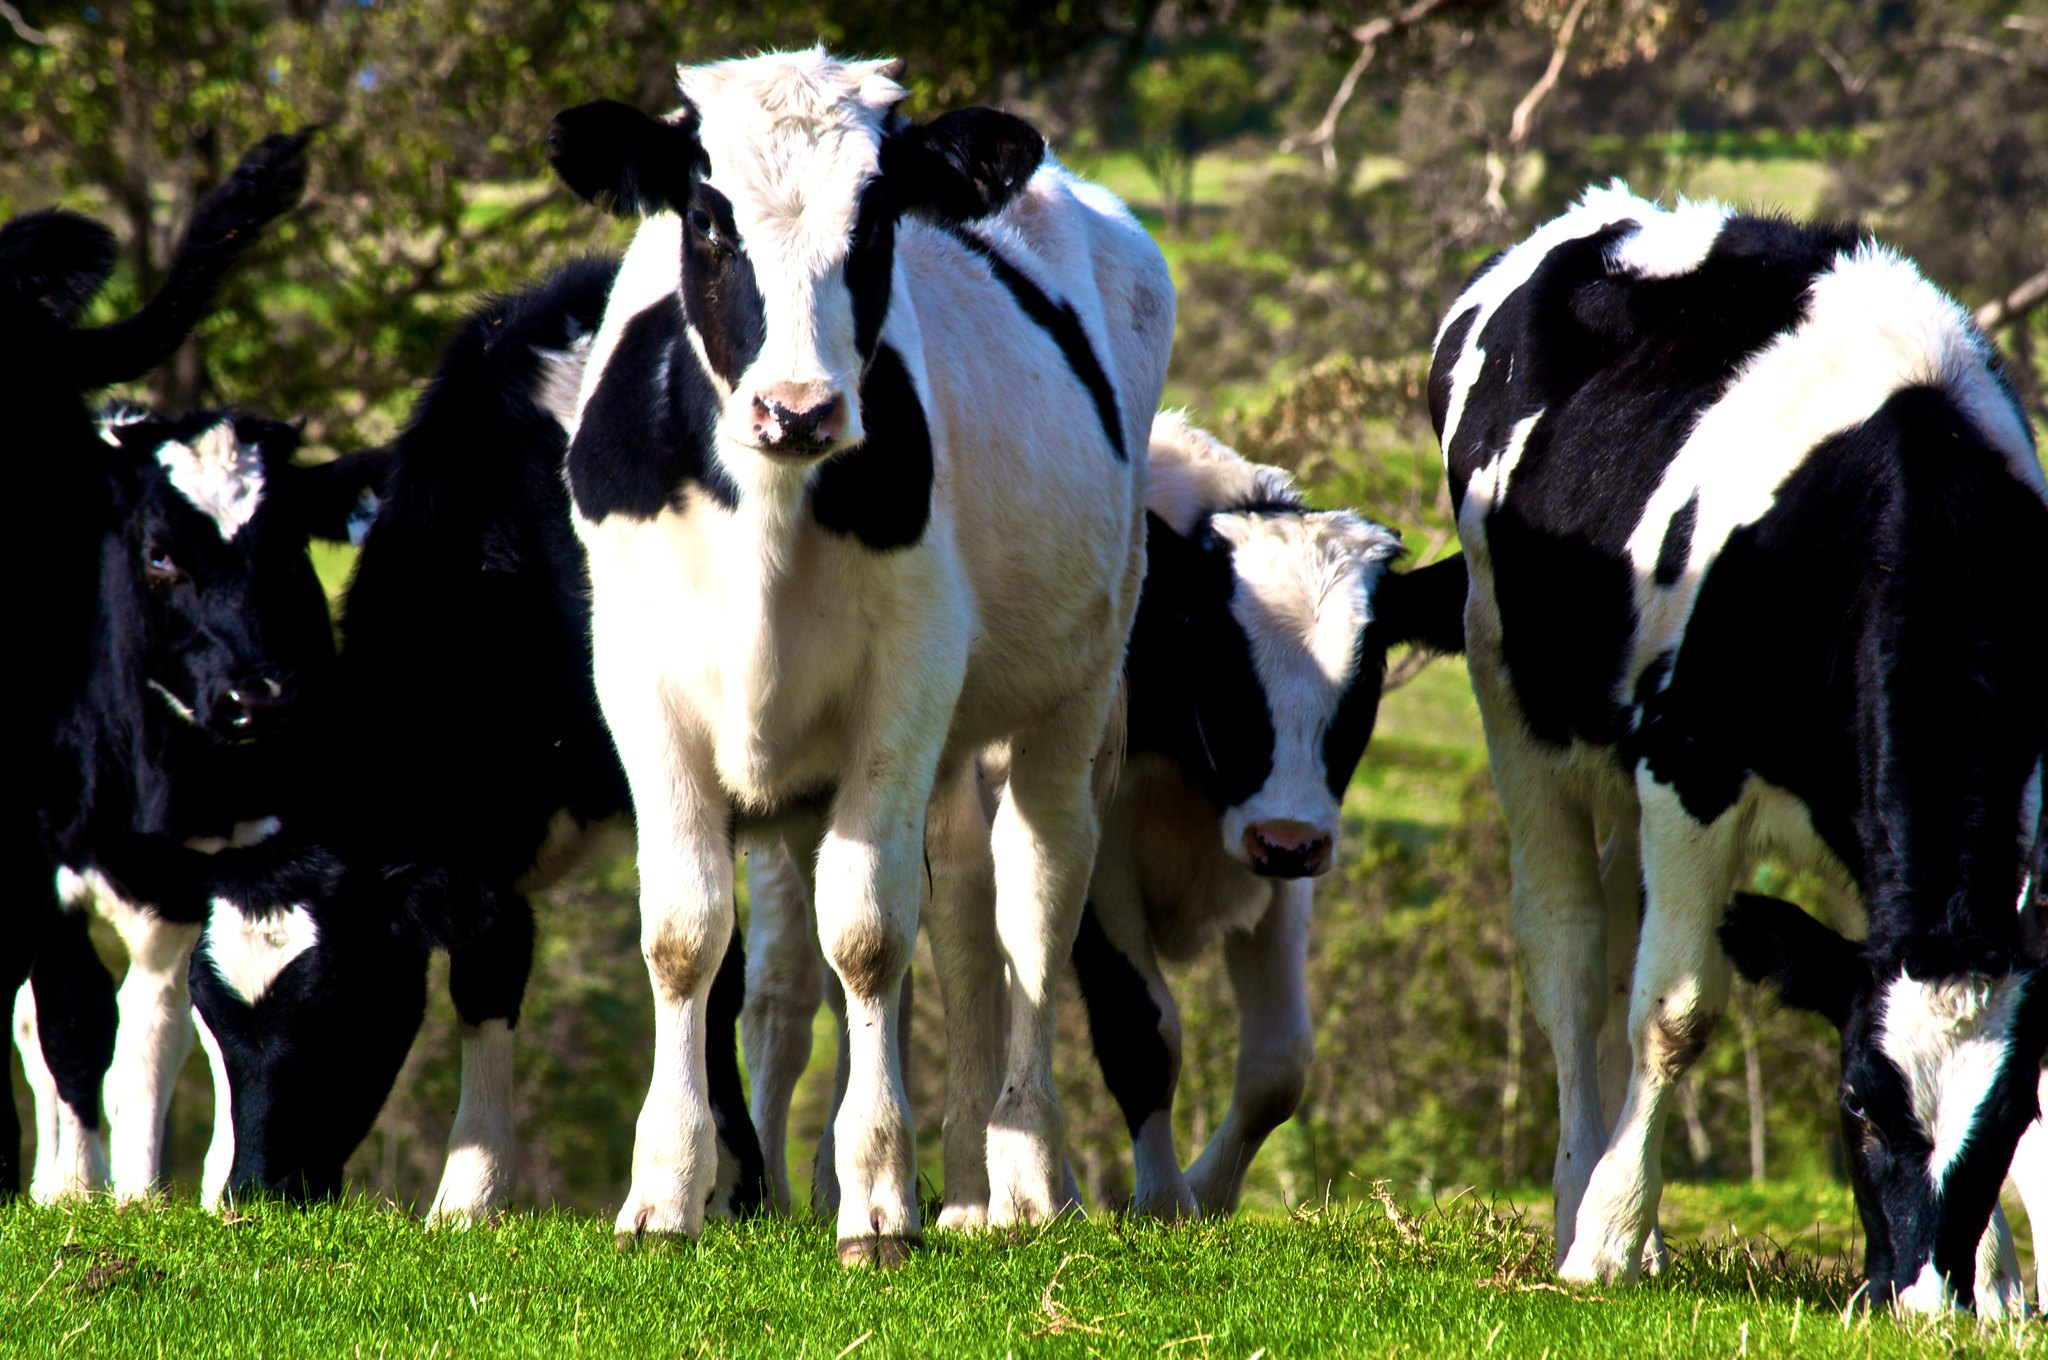cow: (537, 36, 1117, 1264), (1440, 175, 2046, 1327), (1150, 443, 1429, 1220), (67, 399, 322, 1229)
